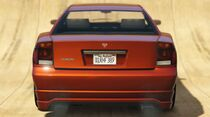car: (35, 1, 178, 111)
